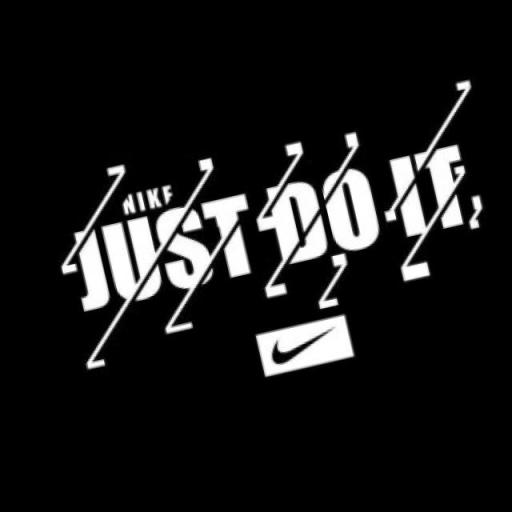Nike: (254, 315, 352, 374)
